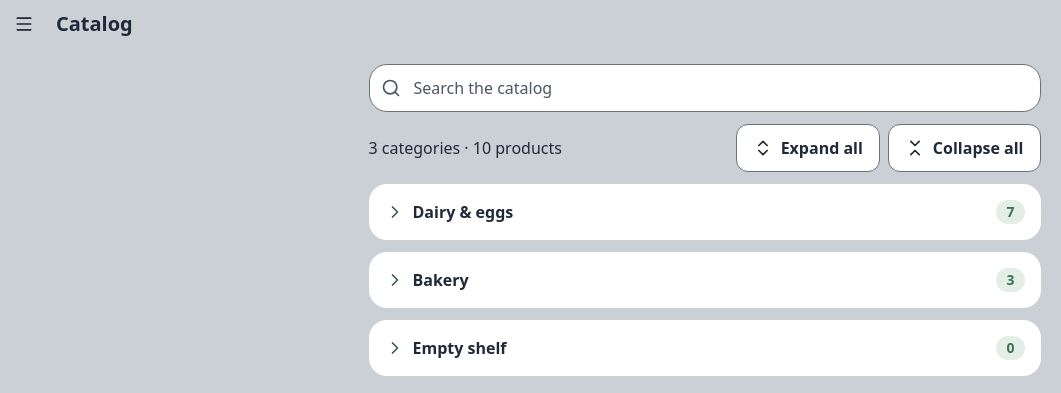
Test: Catalog search › PRD-2.6: shows a product match under its opened path, highlighted
Check: the button "Bakery 3" is shown, box [368, 252, 1040, 308]
Step 1. Type "oat" into the search field labelled "Search the catalog" → (704, 88), box [368, 64, 1040, 112]
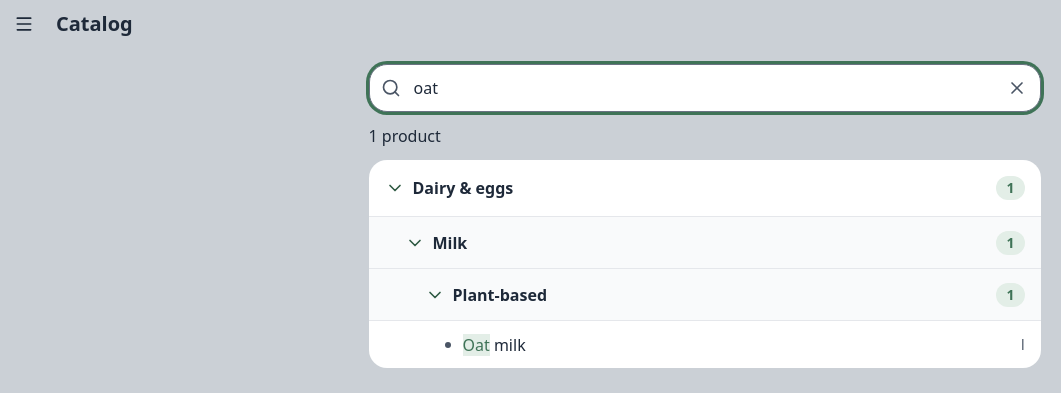
Check: the text "Oat" is shown, box [462, 334, 490, 356]
Check: the text "1 product" is shown, box [368, 124, 441, 148]
Check: the button "Expand all" is gone
